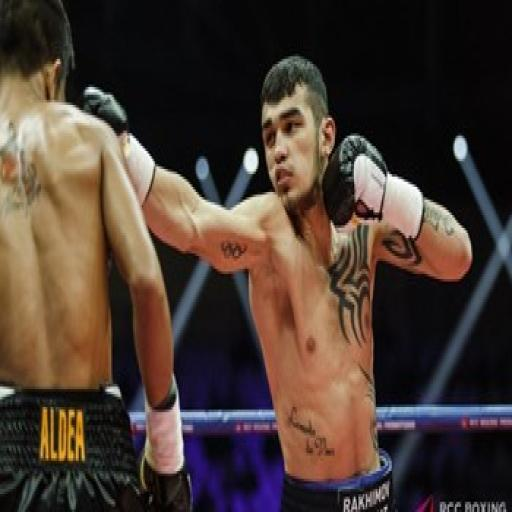boxing: (79, 52, 472, 510)
